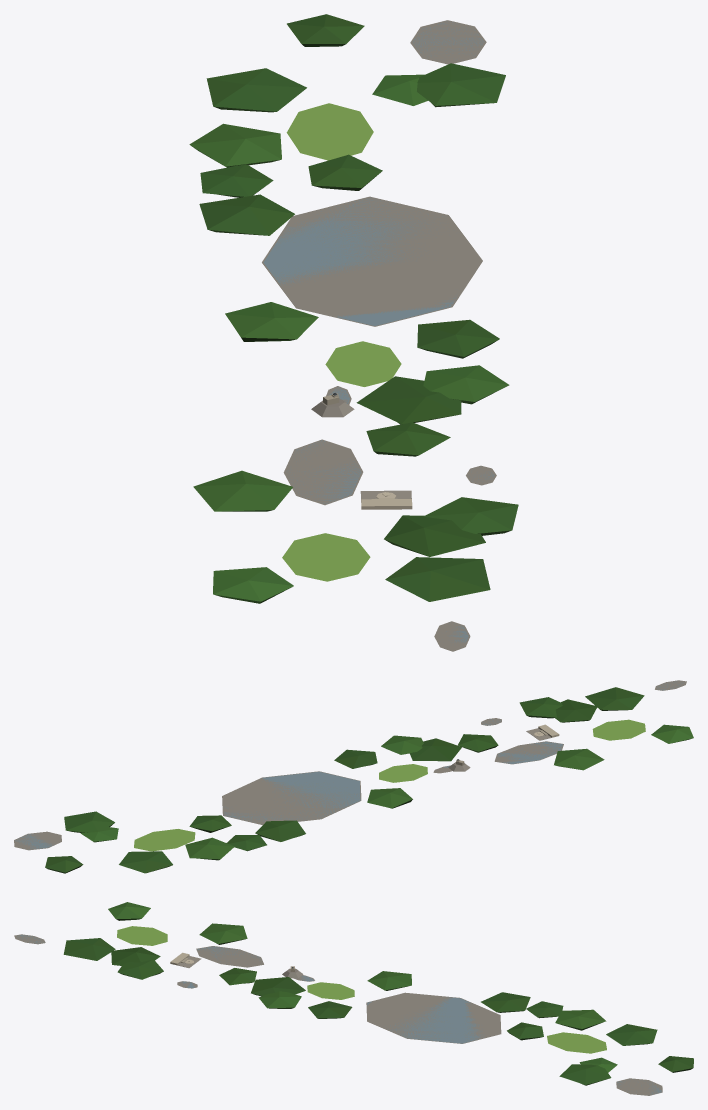
The picture shows the model from 3 angles, top to bottom: view 1: azimuth 30°, elevation 25°; view 2: azimuth 150°, elevation 25°; view 3: azimuth 270°, elevation 25°; orthographic projection. The views are drawn at different scales.
Parts seen in each view (by area): view 1: central-park-lod3; view 2: central-park-lod3; view 3: central-park-lod3.
Part boxes in pixels (x1=…): central-park-lod3: x1=189, y1=14, x2=518, y2=651; central-park-lod3: x1=14, y1=680, x2=693, y2=873; central-park-lod3: x1=14, y1=902, x2=693, y2=1095.
Bounding box in the file's own units: 2493 × 48.47 × 3746.
